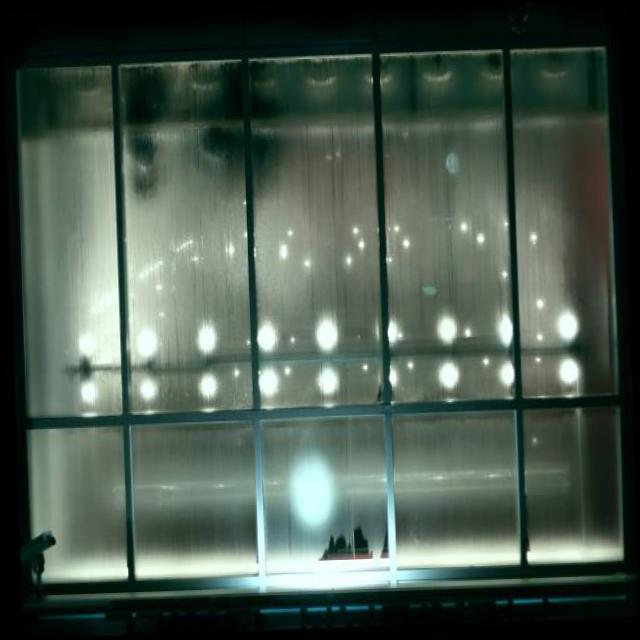Window: (1, 32, 633, 618)
